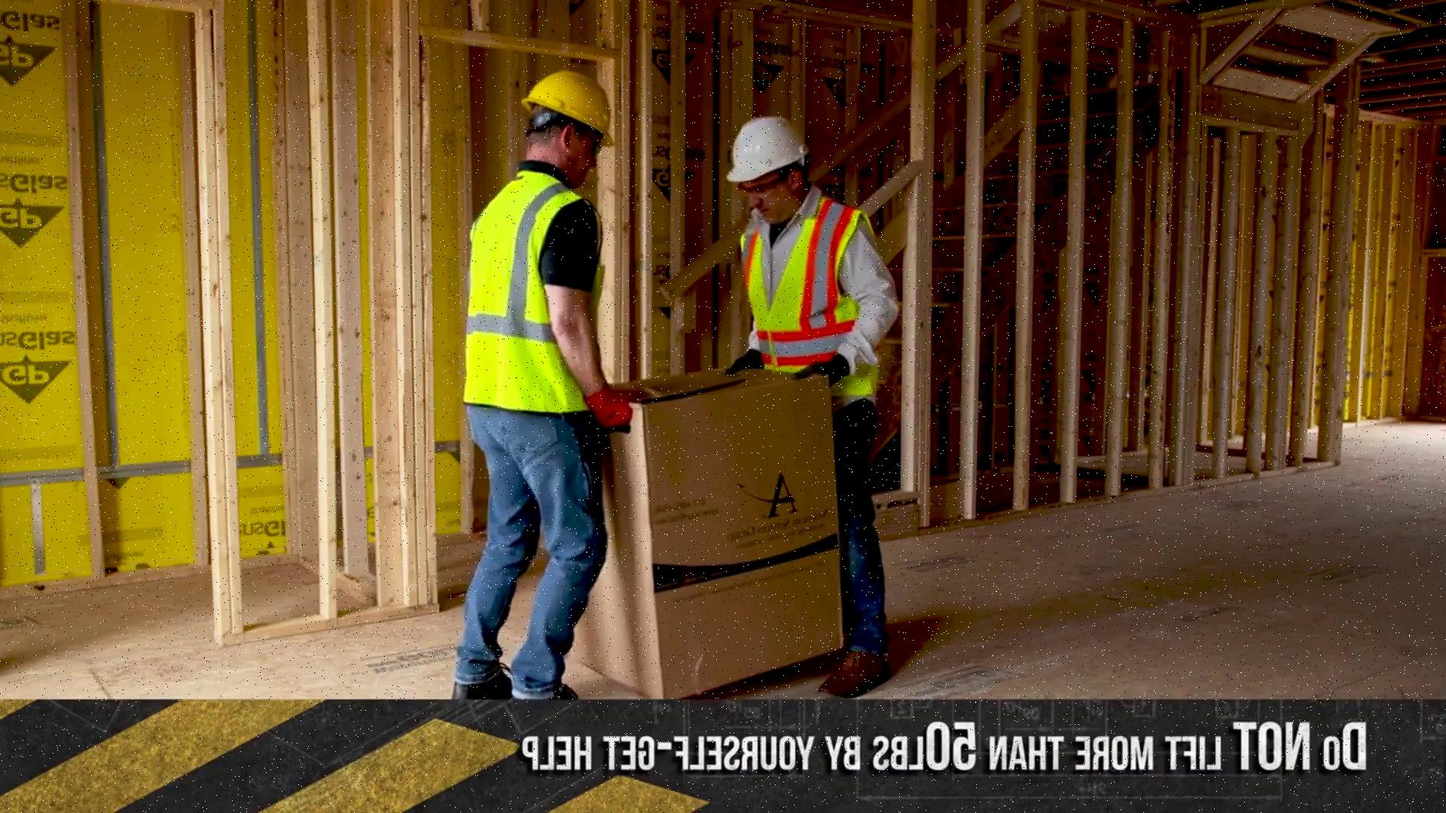Hard_hat: (719, 100, 814, 176), (524, 70, 636, 133)
Vest: (428, 174, 568, 415), (729, 199, 856, 413)
